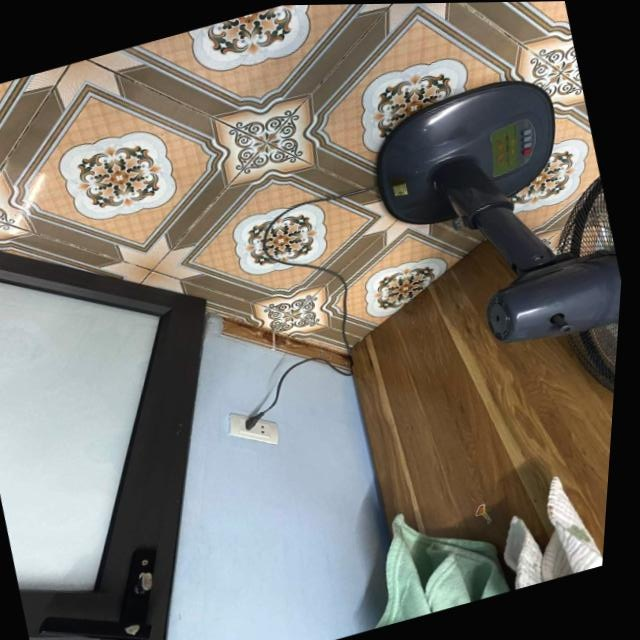outlet: (223, 401, 286, 456)
